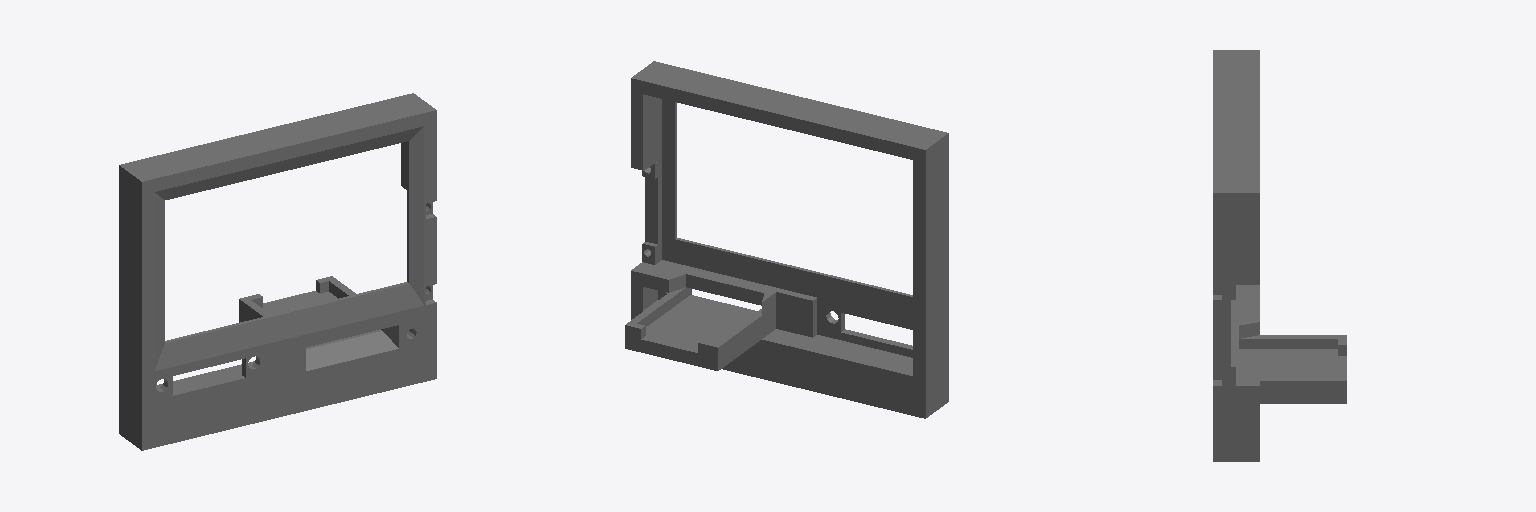
Rendered from TV_FRONT3.obj.
The picture shows the model from 3 angles: view 1: azimuth 30°, elevation 25°; view 2: azimuth 150°, elevation 25°; view 3: azimuth 270°, elevation 25°; orthographic projection.
Parts seen in each view (by area): view 1: TV_Front TV:TV_FRONT:polySurface9; view 2: TV_Front TV:TV_FRONT:polySurface9; view 3: TV_Front TV:TV_FRONT:polySurface9.
Part boxes in pixels (left/top/right/bottom): TV_Front TV:TV_FRONT:polySurface9: left=119, top=93, right=436, bottom=450; TV_Front TV:TV_FRONT:polySurface9: left=625, top=61, right=948, bottom=418; TV_Front TV:TV_FRONT:polySurface9: left=1213, top=50, right=1346, bottom=461.
Size of the model in its own units: 117 by 102 by 46.